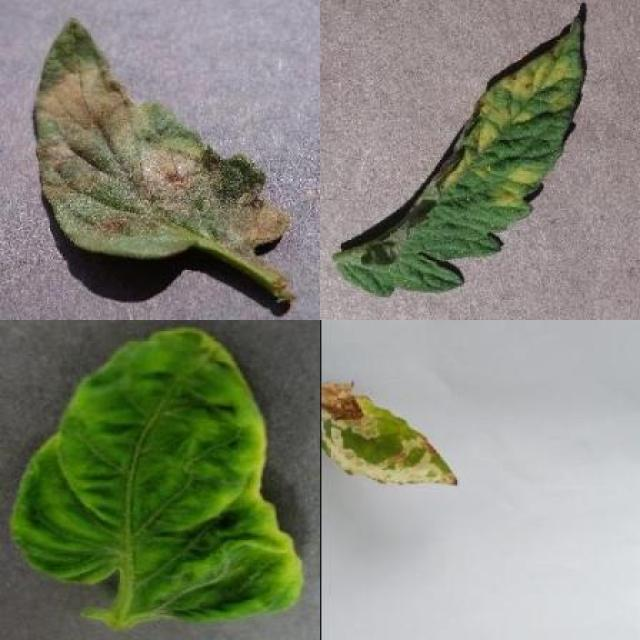Late Blight: (32, 12, 294, 261)
Leaf Miner: (320, 379, 464, 487)
Leaf Mold: (339, 15, 585, 298)
Yellow Leaf Curl Virus: (10, 326, 304, 624)
